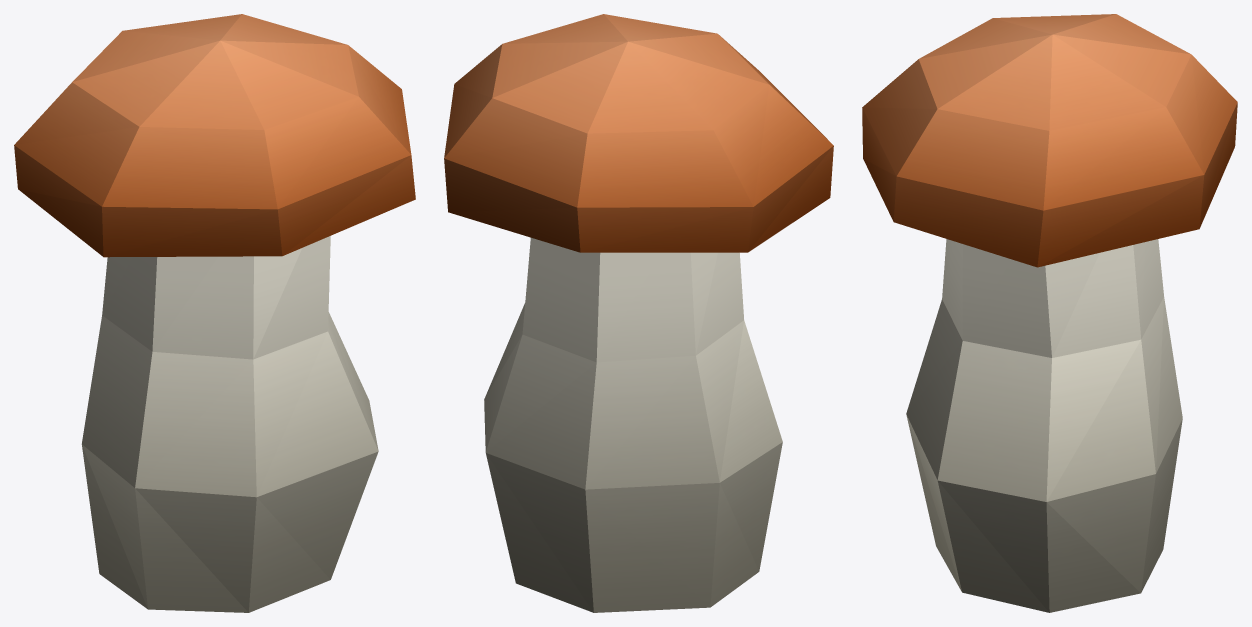
The model's file is MushroomThick-02.FBX.
The picture shows the model from 3 angles, left to right: view 1: azimuth 30°, elevation 25°; view 2: azimuth 150°, elevation 25°; view 3: azimuth 270°, elevation 25°; orthographic projection.
Visible parts, largest first — view 1: MushroomThick-02; view 2: MushroomThick-02; view 3: MushroomThick-02.
Boxes of the visible parts, x1=… form: MushroomThick-02: x1=14, y1=14, x2=415, y2=612; MushroomThick-02: x1=444, y1=14, x2=833, y2=612; MushroomThick-02: x1=862, y1=14, x2=1237, y2=612.
Bounding box in the file's own units: 28.7 × 41.59 × 26.9.
Materials: 1 (1 with a texture image).
